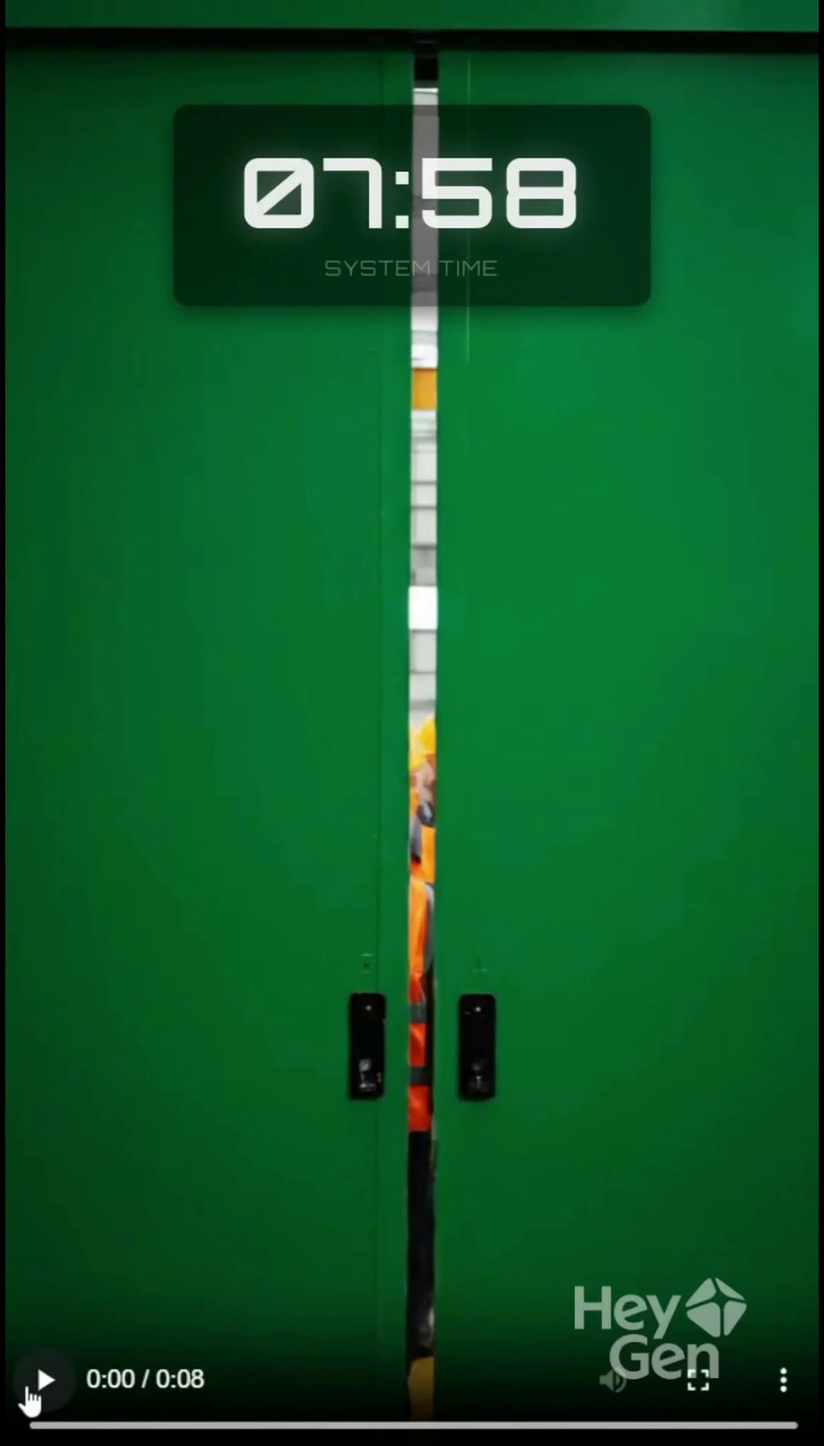porte_verte: (3, 349, 824, 1418)
temp: (186, 104, 668, 321)
